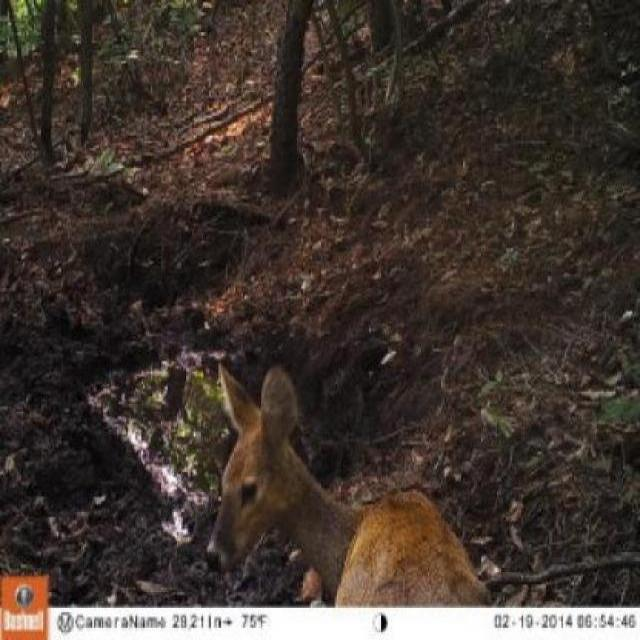deer: (177, 352, 508, 605)
